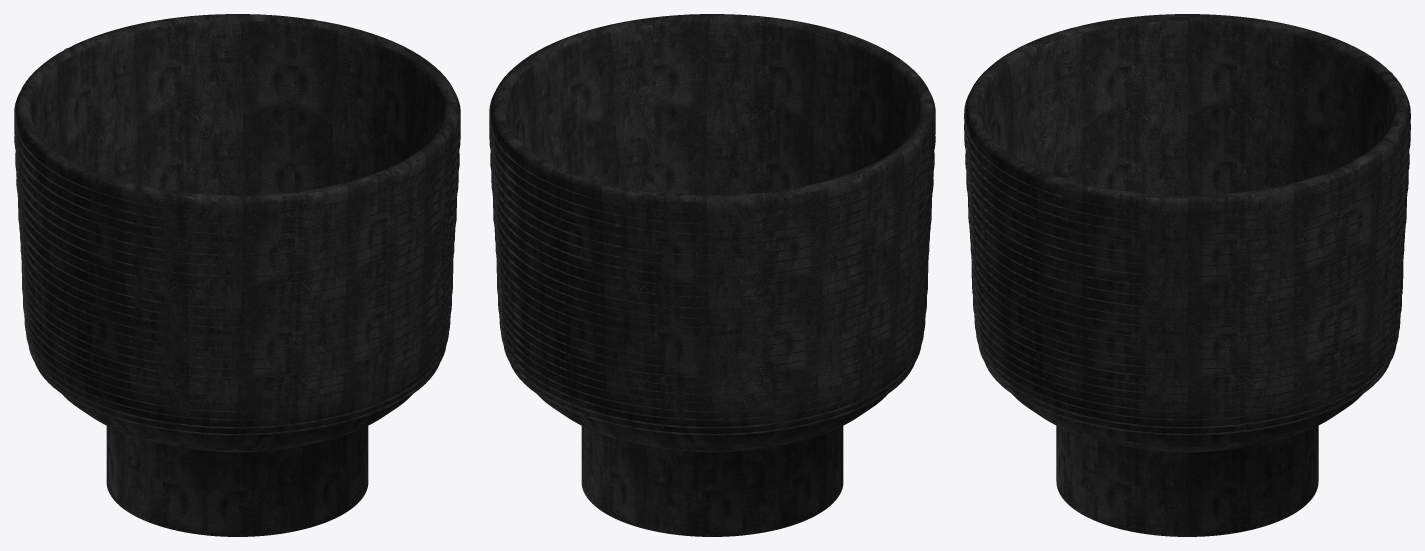
The picture shows the model from 3 angles, left to right: view 1: azimuth 30°, elevation 25°; view 2: azimuth 150°, elevation 25°; view 3: azimuth 270°, elevation 25°; orthographic projection.
Parts seen in each view (by area): view 1: Circle.023; view 2: Circle.023; view 3: Circle.023.
Boxes of the visible parts, x1,y1,x2,y2 form: Circle.023: (14,14,460,536); Circle.023: (489,14,935,536); Circle.023: (964,14,1410,536).
Bounding box in the file's own units: 2.12 × 1.96 × 2.12.
1 material, 1 textured.
